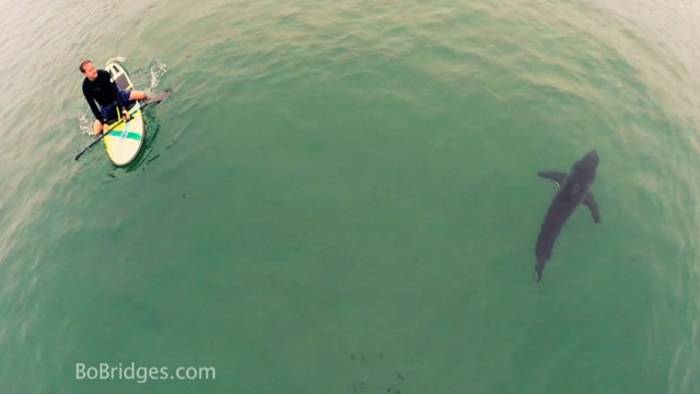shark: (523, 144, 606, 286)
surfer: (72, 51, 157, 179)
